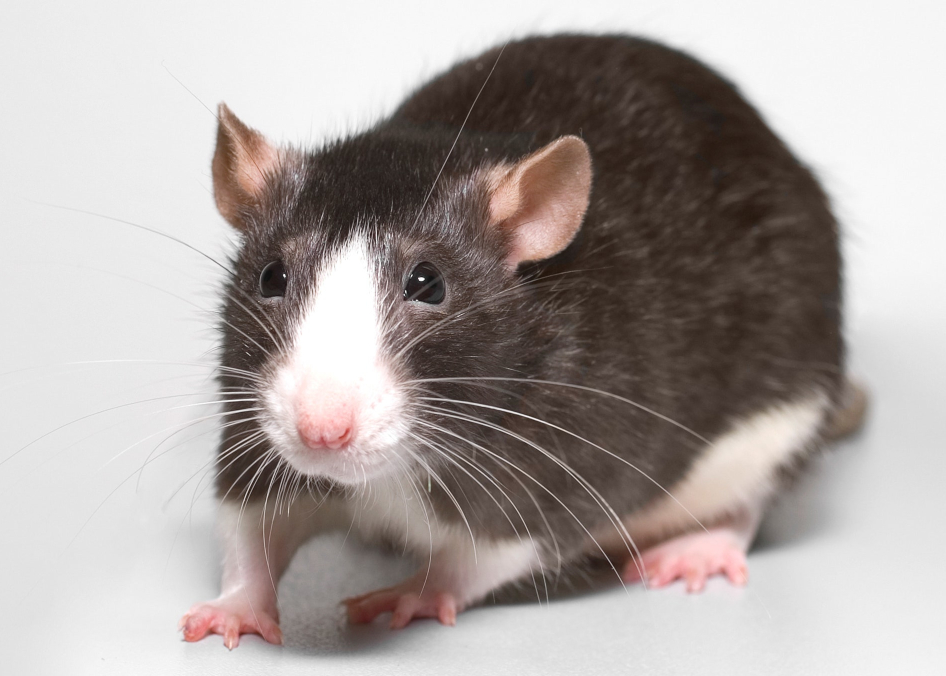rat: (141, 12, 892, 648)
